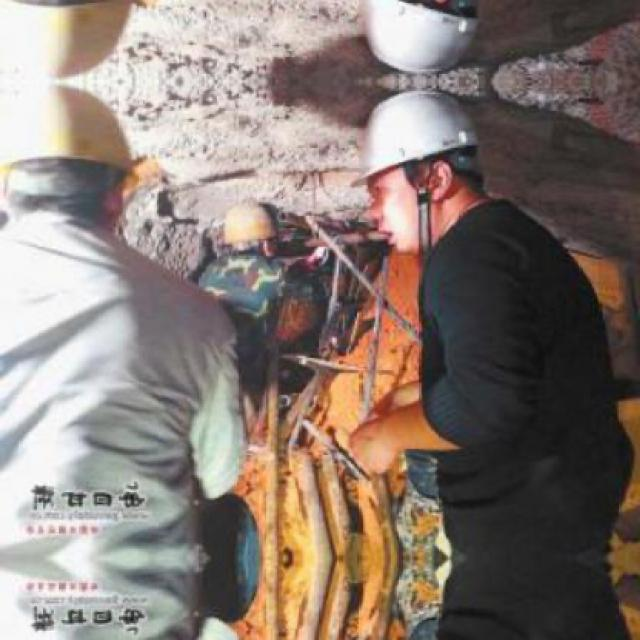helmet: (3, 86, 162, 247), (357, 83, 492, 236), (3, 0, 163, 79), (356, 0, 492, 82), (216, 202, 278, 259)
